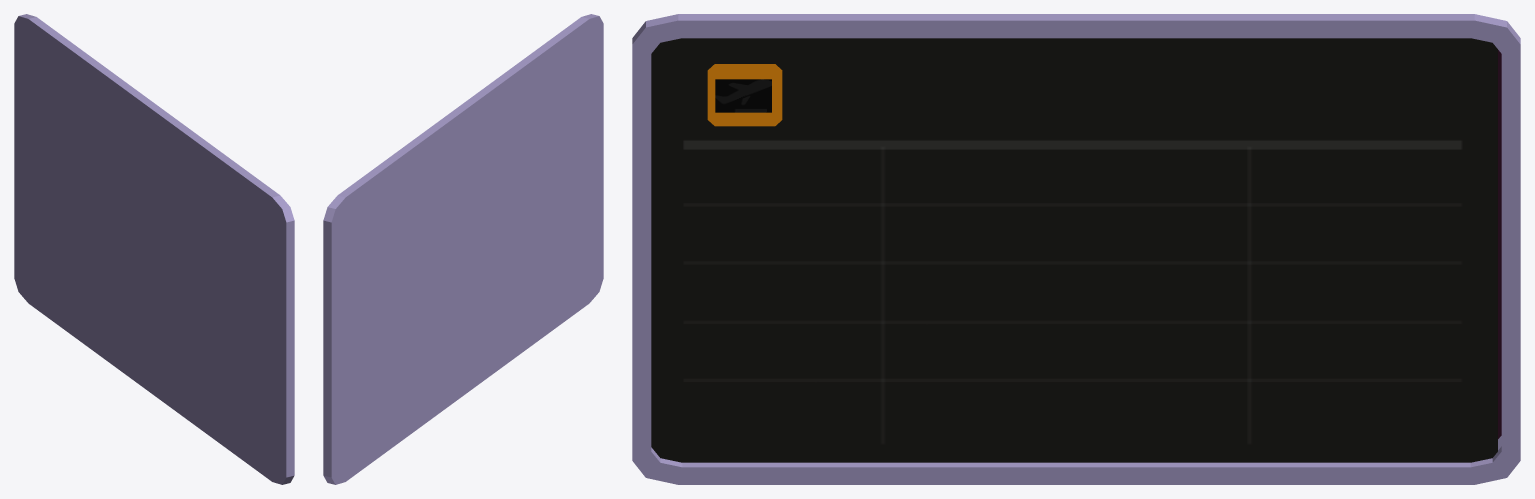
The model's file is DepartureBoard.fbx.
3 views of the same model, side by side, from view 1: azimuth 30°, elevation 25°; view 2: azimuth 150°, elevation 25°; view 3: azimuth 270°, elevation 25° (orthographic). The views are drawn at different scales.
Visible parts, largest first — view 1: Cube.006; view 2: Cube.006; view 3: Cube.006.
Part boxes in pixels (x1,y1,x2,y2): Cube.006: (14, 14, 294, 484); Cube.006: (323, 14, 603, 484); Cube.006: (632, 14, 1520, 484).
Size of the model in its own units: 0.5576 by 18.49 by 32.04.
Materials: 3 (3 with a texture image).
